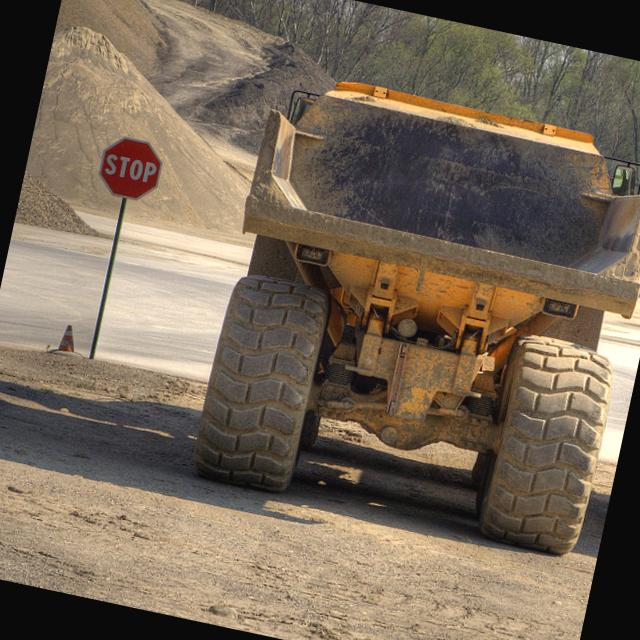Vehicle: (189, 65, 640, 557)
